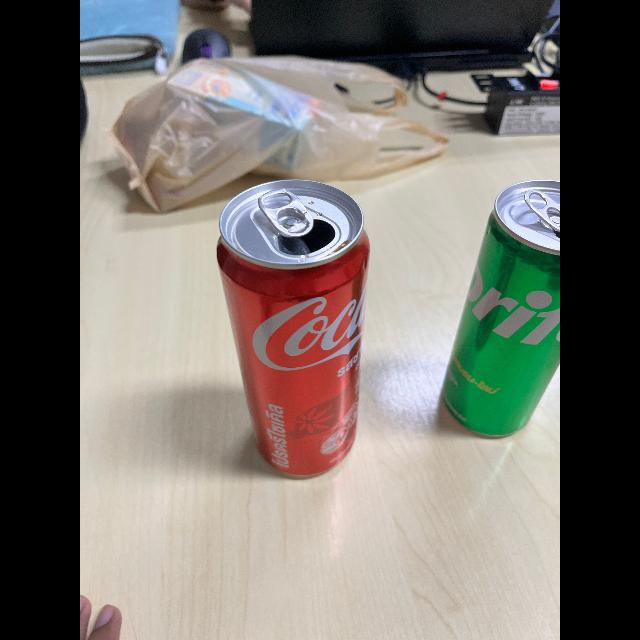can: (208, 183, 386, 481), (436, 170, 560, 464)
